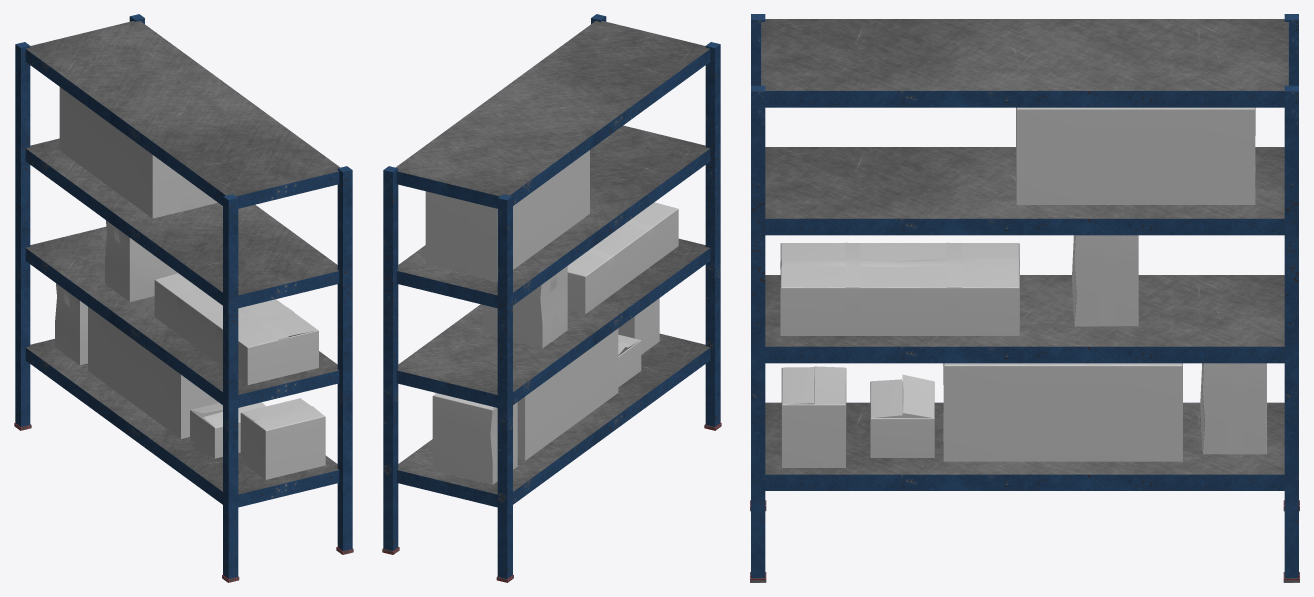
File: CR_ShelfB2.fbx
3 renders of one model, left to right at view 1: azimuth 30°, elevation 25°; view 2: azimuth 150°, elevation 25°; view 3: azimuth 270°, elevation 25°, orthographic. The views are drawn at different scales.
Parts seen in each view (by area): view 1: ShelfB, CardBoard, CardBoard_12, CardBoard_10, CardBoard_7, CardBoard_11, CardBoard_8, CardBoard_6; view 2: ShelfB, CardBoard_12, CardBoard_10, CardBoard, CardBoard_8, CardBoard_11, CardBoard_7, CardBoard_6; view 3: ShelfB, CardBoard_10, CardBoard_12, CardBoard, CardBoard_7, CardBoard_11, CardBoard_8, CardBoard_6.
Boxes of the visible parts, box(x1,y1,x2,y2) form: ShelfB: box(14, 14, 353, 582); CardBoard: box(154, 273, 318, 385); CardBoard_12: box(59, 87, 217, 218); CardBoard_10: box(88, 307, 218, 438); CardBoard_7: box(240, 398, 325, 479); CardBoard_11: box(105, 220, 177, 301); CardBoard_8: box(55, 283, 87, 365); CardBoard_6: box(190, 402, 265, 458); ShelfB: box(382, 14, 721, 582); CardBoard_12: box(425, 150, 589, 281); CardBoard_10: box(517, 328, 618, 460); CardBoard: box(567, 202, 678, 313); CardBoard_8: box(432, 393, 517, 484); CardBoard_11: box(482, 266, 567, 348); CardBoard_7: box(618, 298, 659, 354); CardBoard_6: box(618, 334, 641, 387); ShelfB: box(750, 14, 1299, 582); CardBoard_10: box(943, 363, 1182, 461); CardBoard_12: box(1016, 107, 1255, 204); CardBoard: box(780, 242, 1019, 335); CardBoard_7: box(781, 366, 846, 467); CardBoard_11: box(1072, 235, 1138, 326); CardBoard_8: box(1200, 363, 1266, 454); CardBoard_6: box(870, 374, 934, 457).
Bounding box in the file's own units: 65.65 × 191 × 194.
